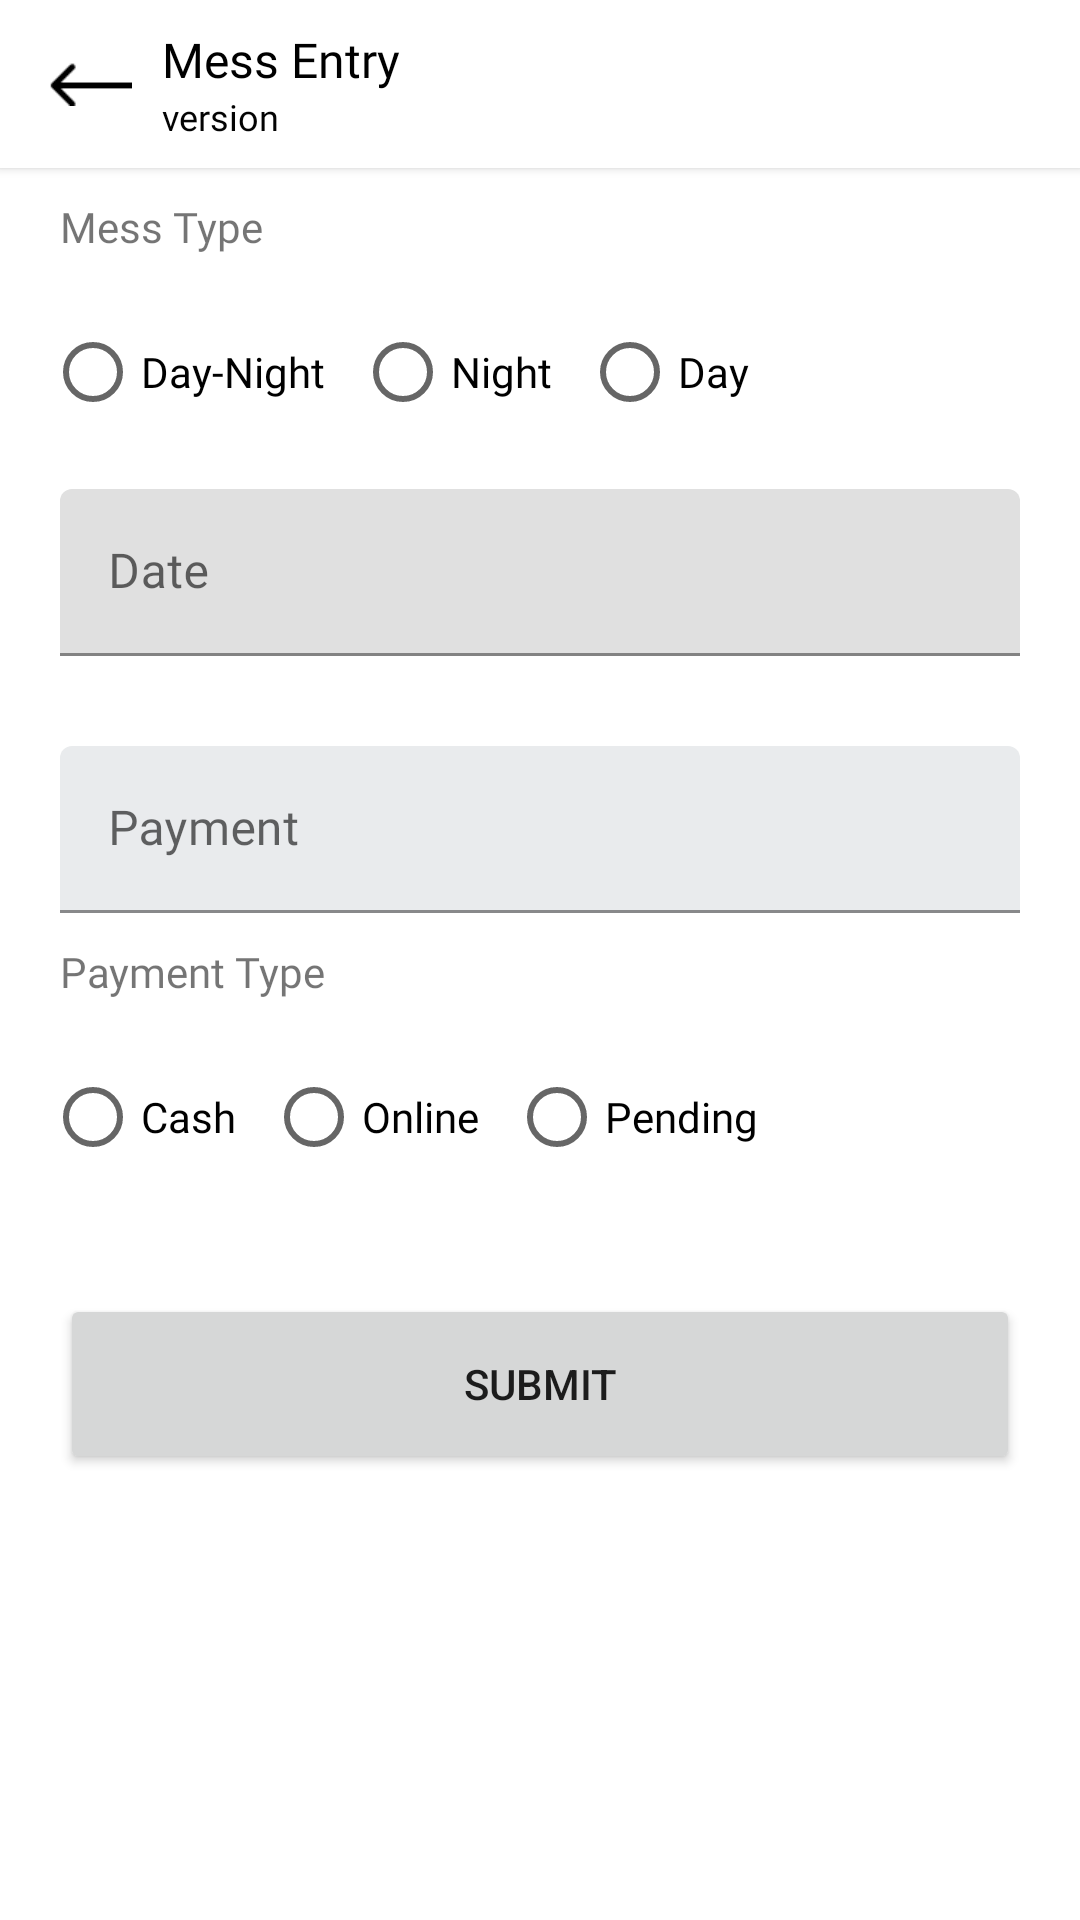

Point at icon controls on the screen. Image size 1080w x 1920h, points as [x,y].
back arrow: [91,84]
